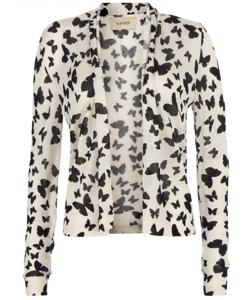C_cardigan sweater: (25, 8, 229, 300)
